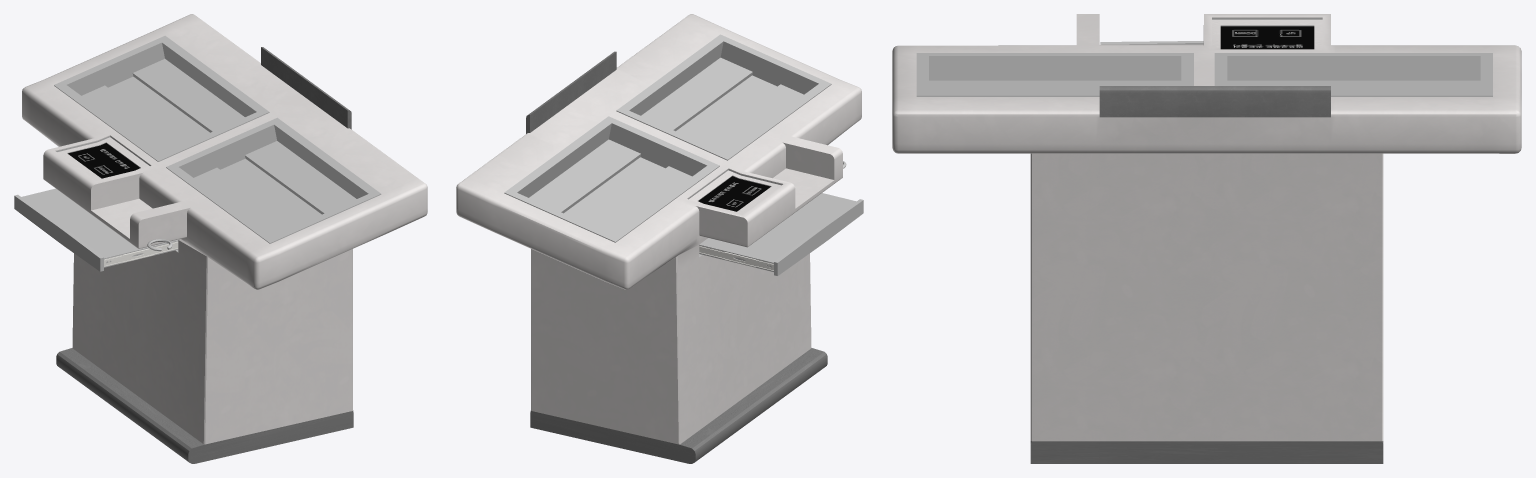
File: 버튼있는교수컴fbx.fbx
The picture shows the model from 3 angles, left to right: view 1: azimuth 30°, elevation 25°; view 2: azimuth 150°, elevation 25°; view 3: azimuth 270°, elevation 25°; orthographic projection. The views are drawn at different scales.
Parts seen in each view (by area): view 1: 교수 책상; view 2: 교수 책상; view 3: 교수 책상.
Part boxes in pixels (x1,y1,x2,y2): 교수 책상: (14,14,427,463); 교수 책상: (456,14,863,463); 교수 책상: (892,14,1521,463).
Bounding box in the file's own units: 161 × 180 × 262.
